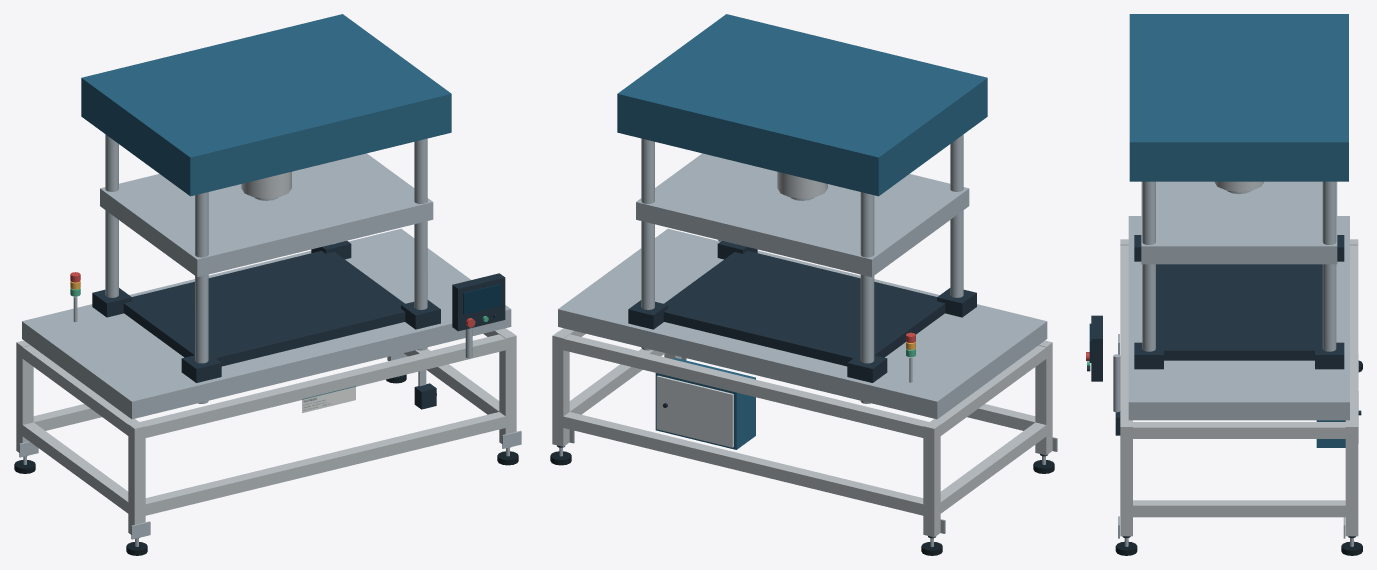
The model's file is platen-die-cutter.glb.
3 renders of one model, left to right at view 1: azimuth 30°, elevation 25°; view 2: azimuth 150°, elevation 25°; view 3: azimuth 270°, elevation 25°, orthographic.
Parts seen in each view (by area): view 1: PressCrown_40, LowerToolTable_31, MovingToolPlate_42, LowerDie_44, Extrusion_22, Extrusion_23, Extrusion_24, Extrusion_25, GuideColumn_34, GuideColumn_38, GuideColumn_32, Extrusion_8 (+11 smaller); view 2: PressCrown_40, LowerToolTable_31, MovingToolPlate_42, LowerDie_44, Extrusion_21, Extrusion_20, BackAccessDoor_29, Extrusion_24, GuideColumn_32, Extrusion_25, GuideColumn_36, Extrusion_3 (+10 smaller); view 3: PressCrown_40, LowerToolTable_31, LowerDie_44, MovingToolPlate_42, Extrusion_26, Extrusion_27, GuideColumn_36, GuideColumn_38, Extrusion_13, Extrusion_21, Extrusion_23, Extrusion_18 (+5 smaller).
Part boxes in pixels (left/top/right/bottom): PressCrown_40: left=81, top=14, right=451, bottom=196; LowerToolTable_31: left=22, top=228, right=511, bottom=419; MovingToolPlate_42: left=100, top=153, right=433, bottom=277; LowerDie_44: left=123, top=251, right=405, bottom=366; Extrusion_22: left=140, top=412, right=511, bottom=515; Extrusion_23: left=140, top=334, right=511, bottom=437; Extrusion_24: left=22, top=422, right=131, bottom=513; Extrusion_25: left=19, top=345, right=138, bottom=437; GuideColumn_34: left=195, top=192, right=208, bottom=403; GuideColumn_38: left=414, top=138, right=427, bottom=350; GuideColumn_32: left=105, top=134, right=118, bottom=297; Extrusion_8: left=128, top=421, right=145, bottom=534; PressCrown_40: left=617, top=14, right=987, bottom=196; LowerToolTable_31: left=558, top=228, right=1047, bottom=419; MovingToolPlate_42: left=636, top=153, right=969, bottom=277; LowerDie_44: left=663, top=251, right=945, bottom=366; Extrusion_21: left=563, top=334, right=928, bottom=438; Extrusion_20: left=558, top=412, right=928, bottom=515; BackAccessDoor_29: left=656, top=375, right=733, bottom=447; Extrusion_24: left=938, top=422, right=1049, bottom=515; GuideColumn_32: left=860, top=192, right=874, bottom=403; Extrusion_25: left=930, top=345, right=1049, bottom=437; GuideColumn_36: left=641, top=138, right=654, bottom=350; Extrusion_3: left=923, top=421, right=940, bottom=537; PressCrown_40: left=1129, top=14, right=1348, bottom=181; LowerToolTable_31: left=1128, top=216, right=1349, bottom=420; LowerDie_44: left=1156, top=264, right=1322, bottom=360; MovingToolPlate_42: left=1141, top=181, right=1337, bottom=264; Extrusion_26: left=1127, top=500, right=1351, bottom=517; Extrusion_27: left=1127, top=422, right=1351, bottom=438; GuideColumn_36: left=1322, top=181, right=1336, bottom=351; GuideColumn_38: left=1142, top=181, right=1155, bottom=351; Extrusion_13: left=1345, top=421, right=1358, bottom=536; Extrusion_21: left=1345, top=245, right=1358, bottom=421; Extrusion_23: left=1120, top=245, right=1132, bottom=421; Extrusion_18: left=1120, top=421, right=1132, bottom=536.
Bounding box in the file's own units: 2.31 × 2.15 × 1.41.
11 materials, 1 textured.
